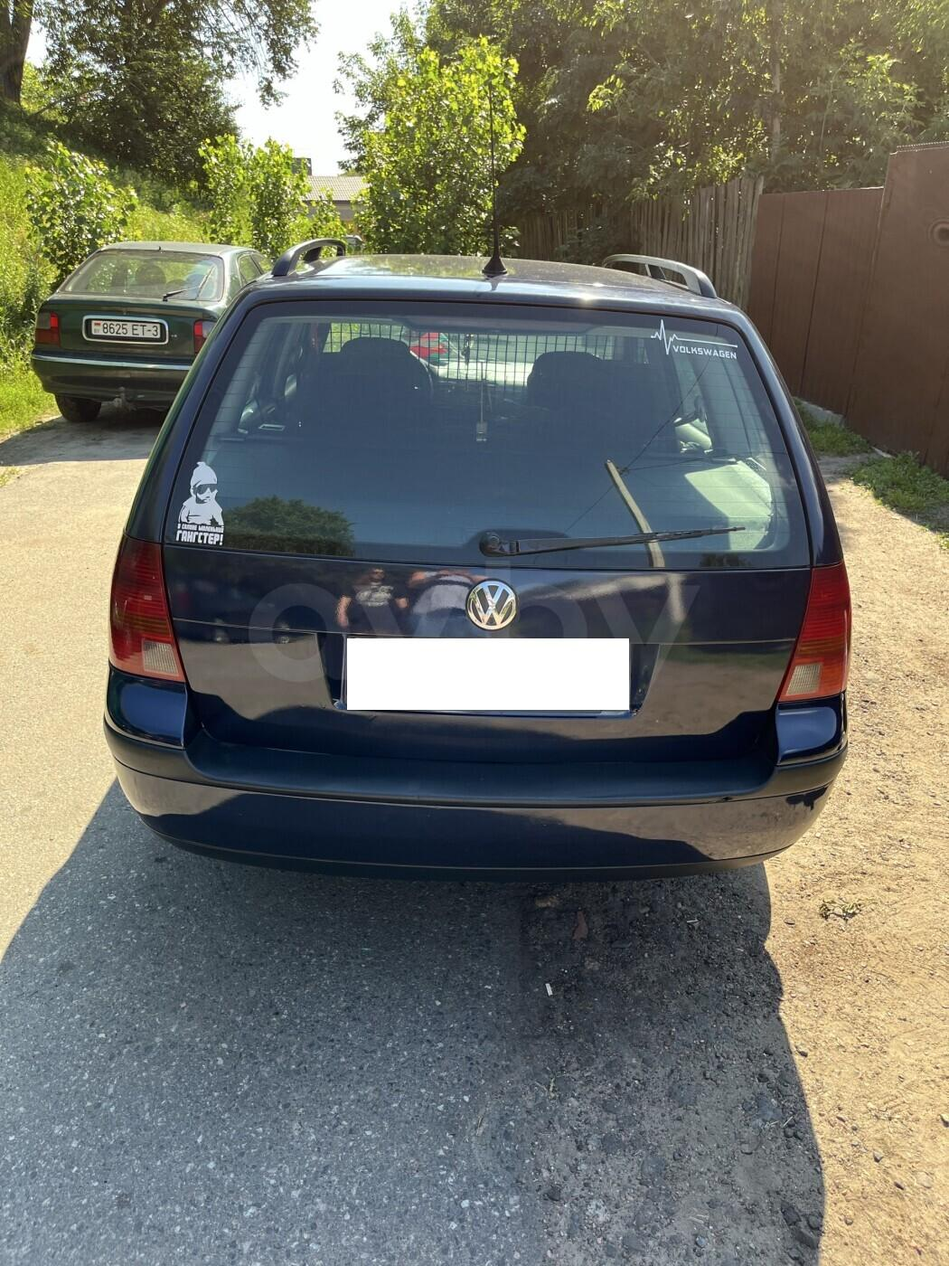Golf_1997-2006: (93, 240, 858, 875)
